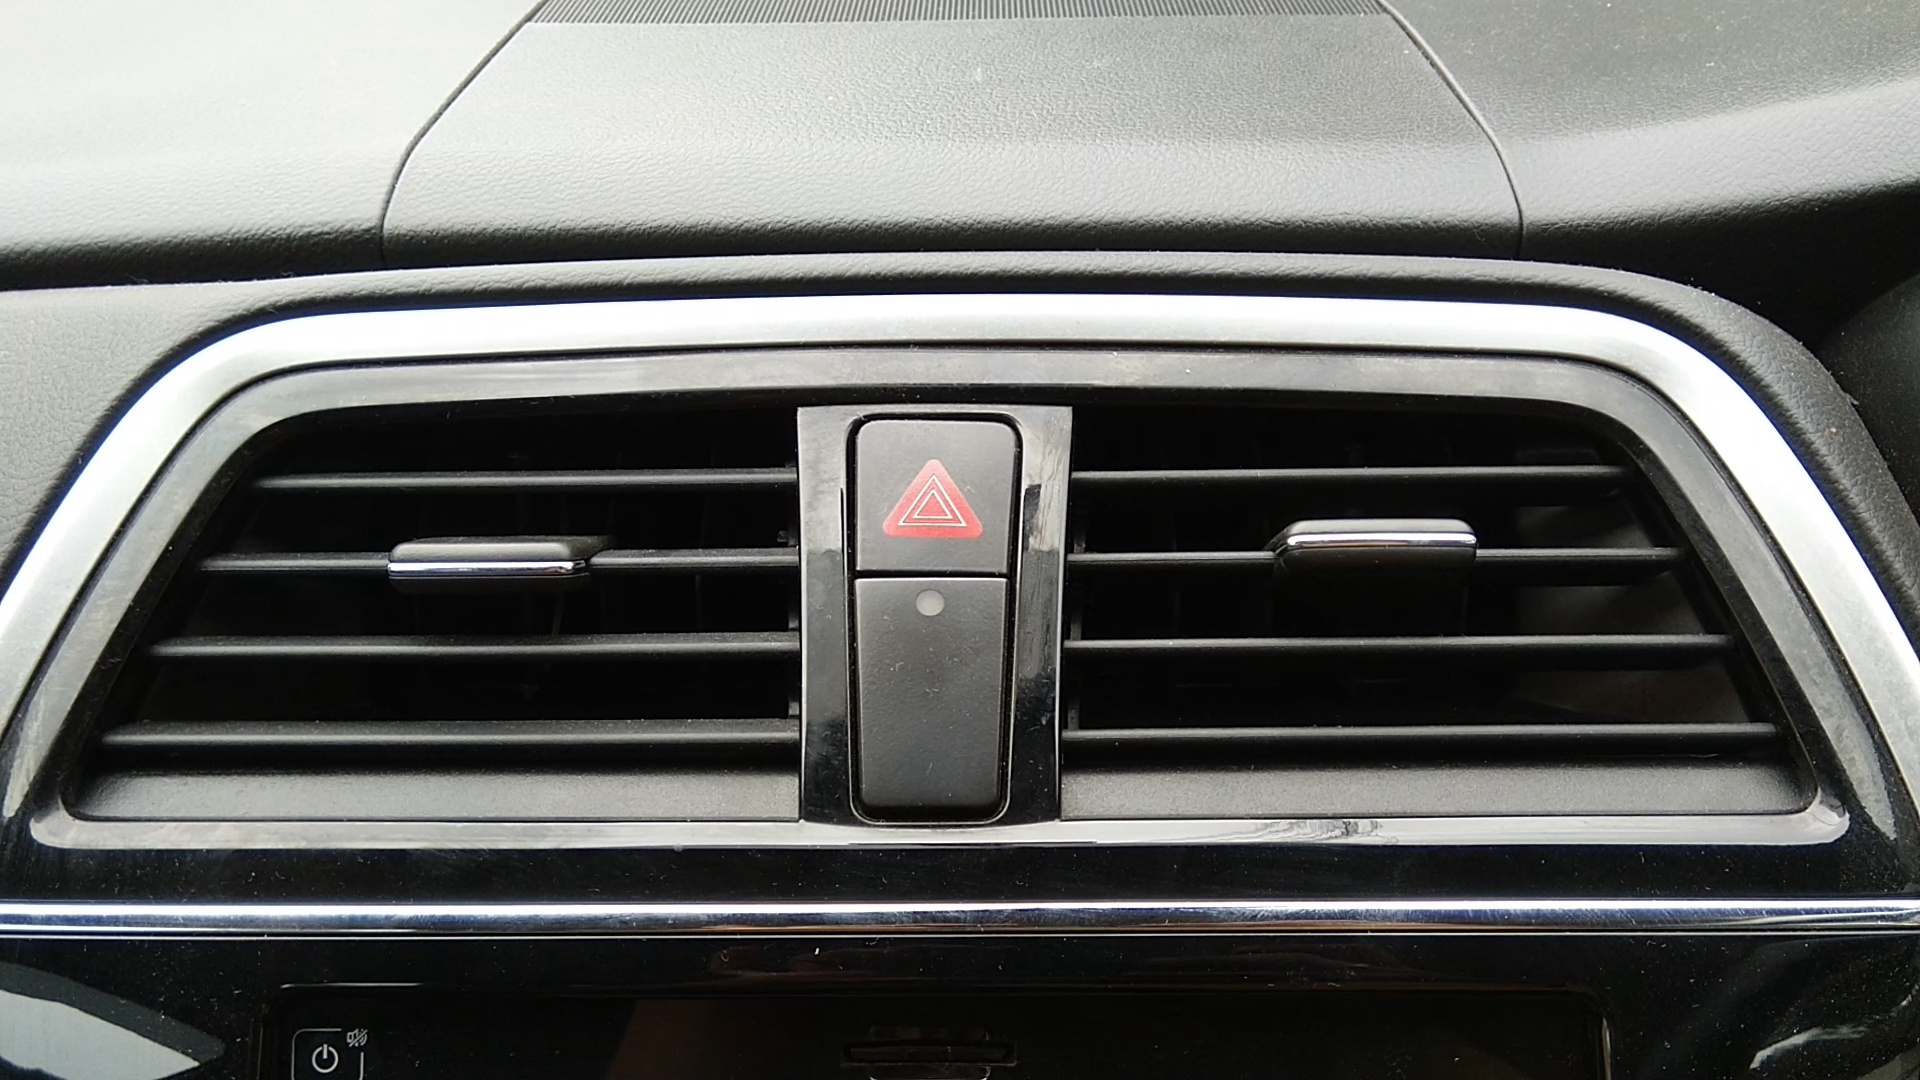parking_button: (836, 386, 1036, 597)
